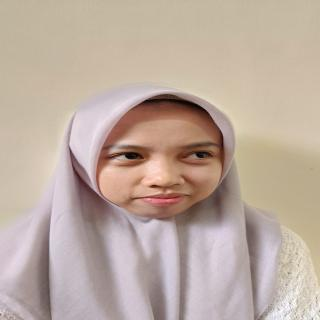Takut: (91, 103, 234, 223)
